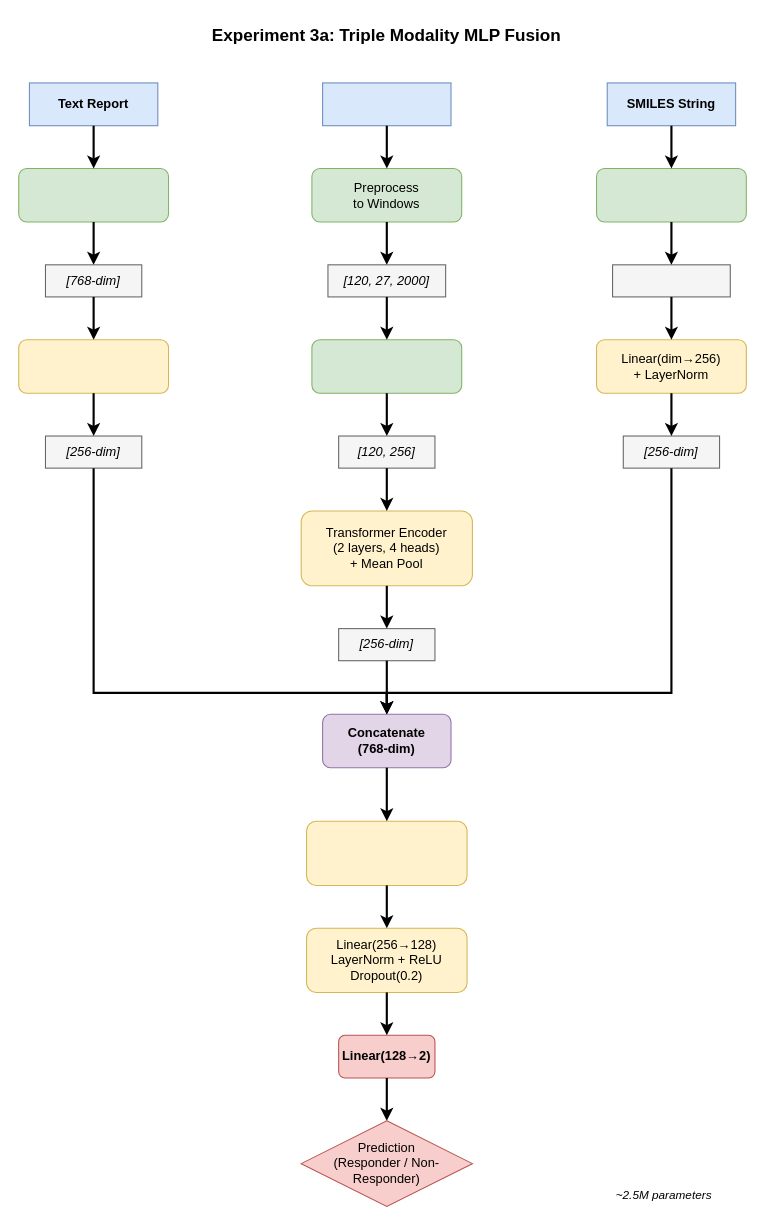
This 765x1225 diagram has some shape labels left out. Each missing label, with the centre of its shape:
[768 or 256-dim]: (x=671, y=280)
ChemBERTa or SMILES-Trf: (x=670, y=194)
ClinicalBERT or PubMedBERT: (x=93, y=194)
EEG Recording: (x=386, y=104)
Linear(768→256) + LayerNorm: (x=93, y=366)
Linear(768→256) LayerNorm + ReLU Dropout(0.3): (x=386, y=852)
SimpleCNN Encoder (per window): (x=386, y=366)
